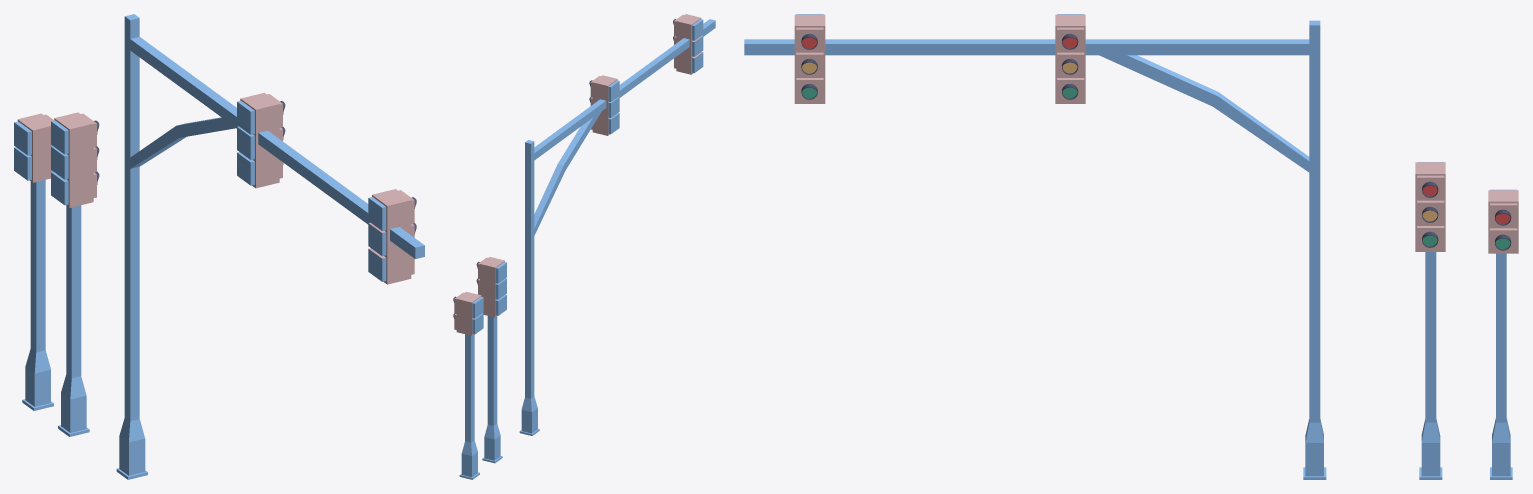
File: Straatobject1_Tinka(verkeerslampen).fbx
3 views of the same model, side by side, from view 1: azimuth 30°, elevation 25°; view 2: azimuth 150°, elevation 25°; view 3: azimuth 270°, elevation 25° (orthographic). The views are drawn at different scales.
Parts seen in each view (by area): view 1: Plane.003, Plane, Plane.004, Cube.001, Cube.003, Cube.002, Cube.004; view 2: Plane.003, Plane, Plane.004, Cube.001, Cube.003, Cube.002, Cube.004; view 3: Plane.003, Cube.001, Plane, Plane.004, Cube.003, Cube.002, Cube.004.
Part boxes in pixels (x1=…): Plane.003: x1=116, y1=14, x2=424, y2=479; Plane: x1=58, y1=205, x2=89, y2=436; Plane.004: x1=22, y1=180, x2=53, y2=410; Cube.001: x1=51, y1=112, x2=96, y2=207; Cube.003: x1=368, y1=189, x2=414, y2=284; Cube.002: x1=237, y1=92, x2=282, y2=188; Cube.004: x1=14, y1=113, x2=53, y2=182; Plane.003: x1=519, y1=19, x2=715, y2=435; Plane: x1=482, y1=316, x2=502, y2=463; Plane.004: x1=459, y1=334, x2=479, y2=479; Cube.001: x1=478, y1=257, x2=506, y2=317; Cube.003: x1=674, y1=14, x2=703, y2=74; Cube.002: x1=590, y1=75, x2=619, y2=135; Cube.004: x1=454, y1=291, x2=483, y2=335; Plane.003: x1=744, y1=20, x2=1326, y2=479; Cube.001: x1=802, y1=37, x2=1510, y2=251; Plane: x1=1419, y1=252, x2=1442, y2=479; Plane.004: x1=1490, y1=253, x2=1512, y2=479; Cube.003: x1=794, y1=14, x2=825, y2=103; Cube.002: x1=1055, y1=14, x2=1085, y2=103; Cube.004: x1=1488, y1=189, x2=1518, y2=253.
Bounding box in the file's own units: 435 × 4401 × 6758.
